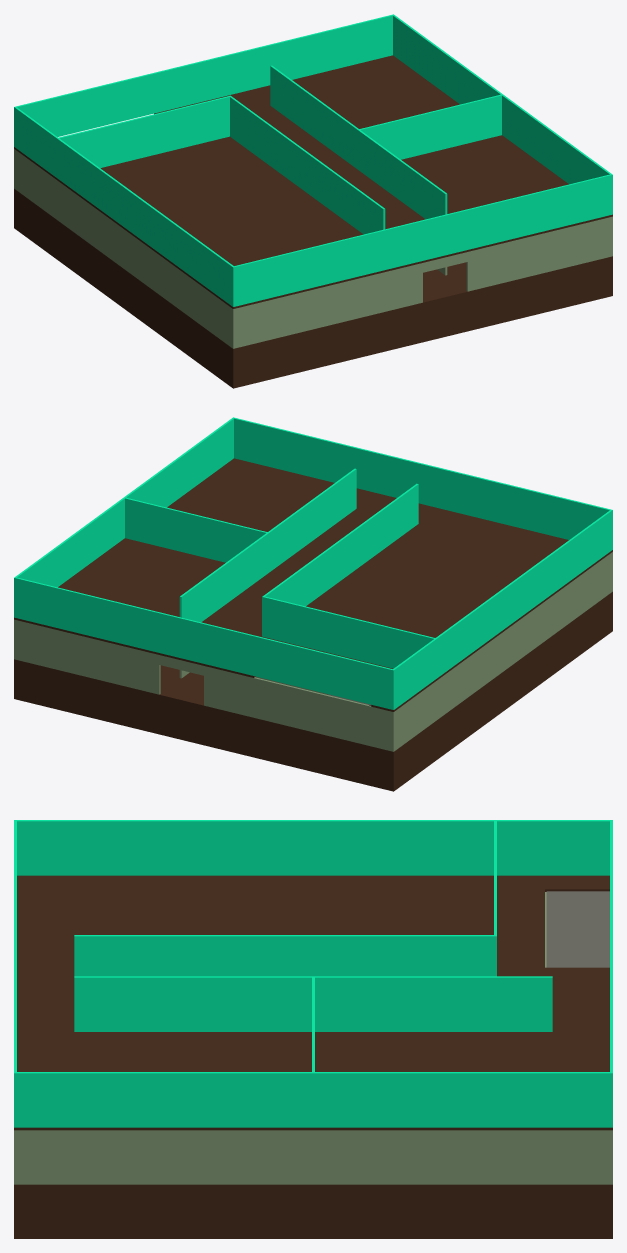
The model's file is Test Building.fbx.
3 renders of one model, top to bottom at view 1: azimuth 30°, elevation 25°; view 2: azimuth 150°, elevation 25°; view 3: azimuth 270°, elevation 25°, orthographic. The views are drawn at different scales.
Parts seen in each view (by area): view 1: 2nd Floor, Building Foundation, OuterWall 1.006, OuterWall 1.008, OuterWall 1.2, OuterWall 1.005, OuterWall 1.1, OuterWall 1.007, Inner Hallway 1.001, Inner Hallway.003, Inner Hallway.007, Inner Hallway.005; view 2: 2nd Floor, Building Foundation, OuterWall 1.008, OuterWall 1.006, OuterWall 1.4, OuterWall 1.005, OuterWall 1.1, OuterWall 1.007, Inner Hallway 1.001, Inner Hallway.007, Inner Hallway.003, Inner Hallway.005; view 3: 2nd Floor, OuterWall 1.007, OuterWall 1.005, Building Foundation, OuterWall 1.3, Inner Hallway 1.001, Inner Hallway.003, Stairs, OuterWall 1.006, OuterWall 1.008.
Boxes of the visible parts, x1,y1,x2,y2 form: 2nd Floor: (14, 55, 612, 308); Building Foundation: (14, 188, 612, 388); OuterWall 1.006: (232, 174, 612, 306); OuterWall 1.008: (14, 15, 393, 146); OuterWall 1.2: (232, 216, 612, 348); OuterWall 1.005: (14, 107, 234, 306); OuterWall 1.1: (14, 149, 234, 348); OuterWall 1.007: (392, 14, 612, 208); Inner Hallway 1.001: (270, 65, 447, 219); Inner Hallway.003: (229, 95, 385, 234); Inner Hallway.007: (56, 96, 229, 177); Inner Hallway.005: (357, 94, 501, 169); 2nd Floor: (14, 458, 612, 711); Building Foundation: (14, 591, 612, 791); OuterWall 1.008: (14, 577, 394, 709); OuterWall 1.006: (233, 417, 612, 539); OuterWall 1.4: (14, 620, 394, 751); OuterWall 1.005: (392, 510, 612, 709); OuterWall 1.1: (392, 552, 612, 751); OuterWall 1.007: (14, 418, 233, 617); Inner Hallway 1.001: (179, 468, 356, 622); Inner Hallway.007: (264, 596, 437, 668); Inner Hallway.003: (262, 483, 418, 636); Inner Hallway.005: (125, 497, 269, 562); 2nd Floor: (14, 875, 612, 1130); OuterWall 1.007: (14, 1072, 612, 1127); OuterWall 1.005: (14, 820, 612, 875); Building Foundation: (14, 1184, 612, 1238); OuterWall 1.3: (14, 1130, 612, 1184); Inner Hallway 1.001: (74, 976, 552, 1031); Inner Hallway.003: (74, 935, 496, 976); Stairs: (546, 891, 609, 967); OuterWall 1.006: (14, 820, 16, 1127); OuterWall 1.008: (610, 820, 612, 1125).
Bounding box in the file's own units: 5000 × 1525 × 5000.
